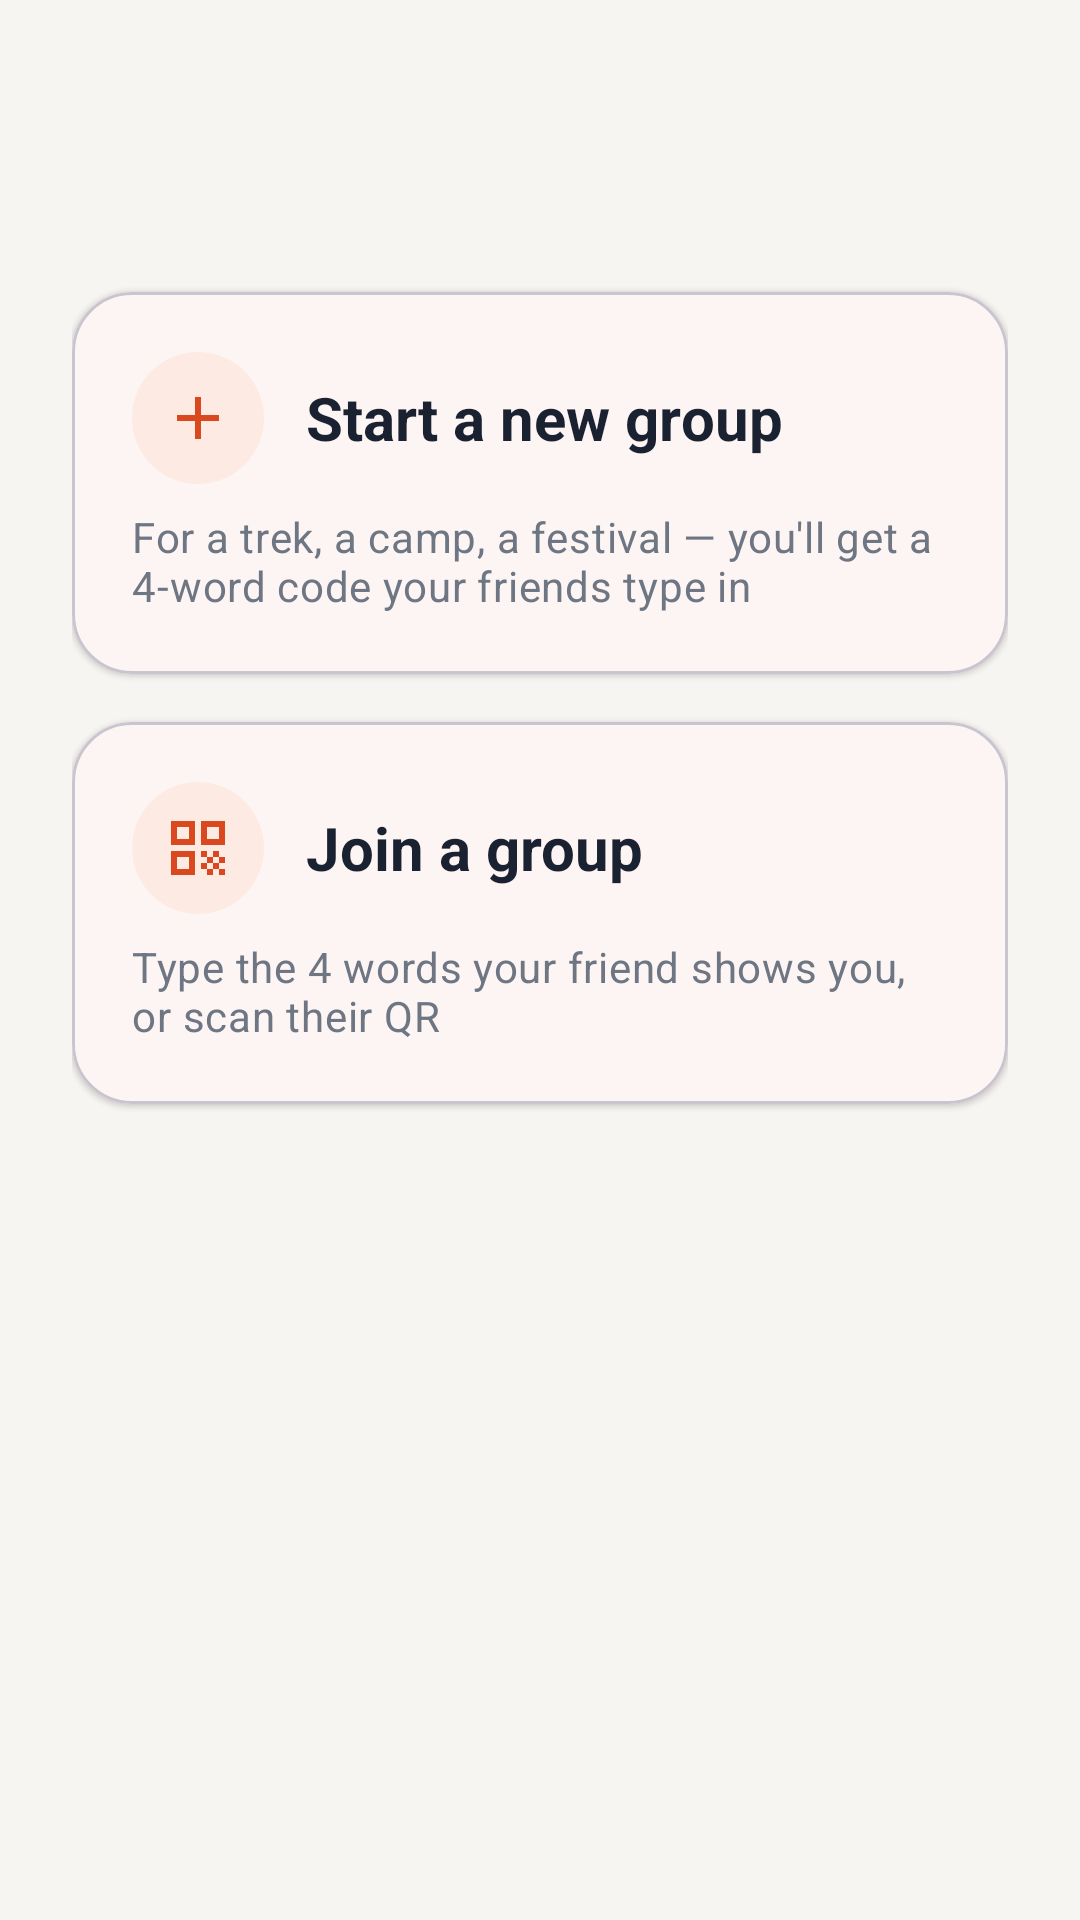

Named icons in this screenshot (1080w x 1920h) and their bounding boxes, Rect(x1, y1, x2, y2):
add: Rect(177, 397, 219, 439)
